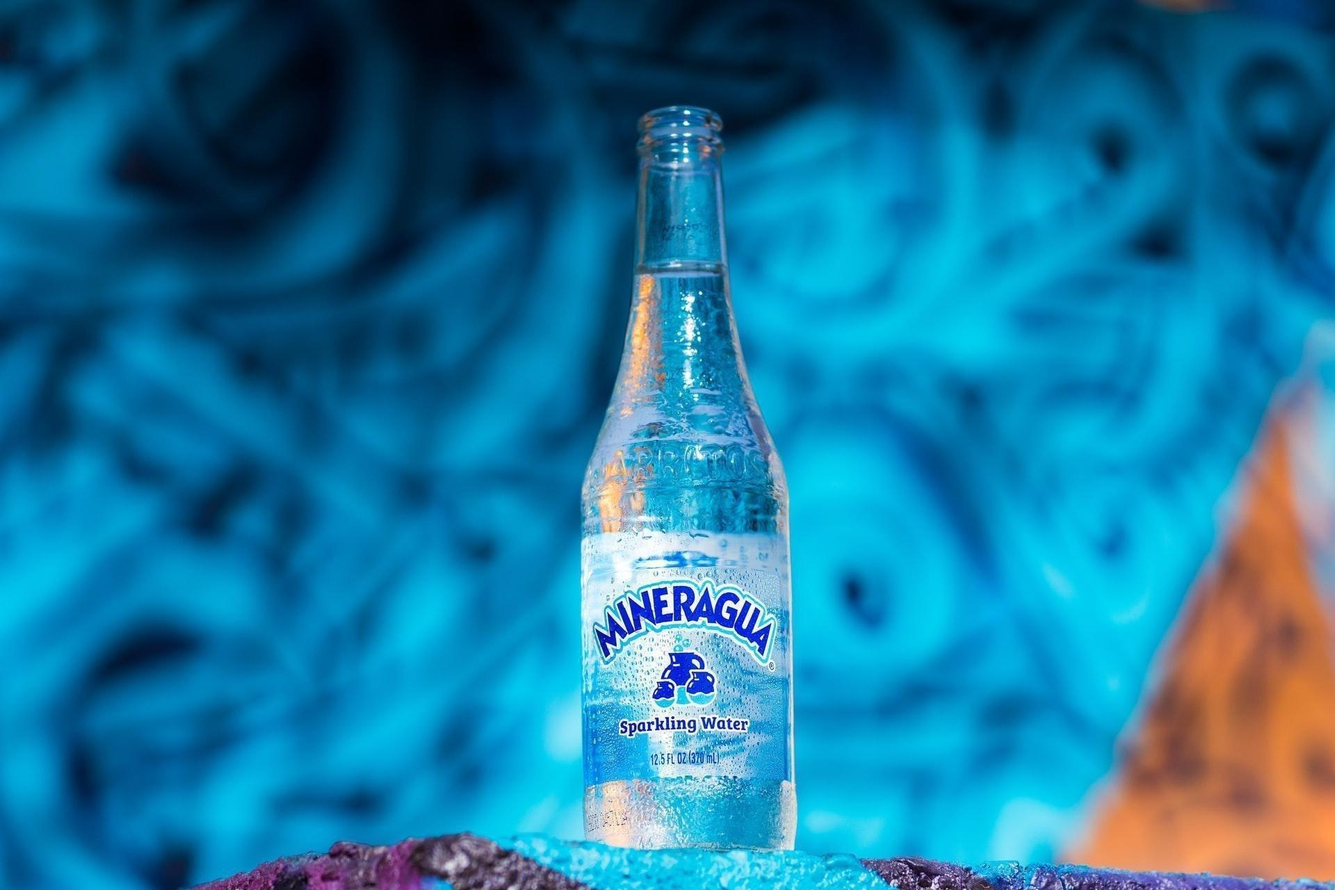bottle-glass: (574, 100, 798, 853)
